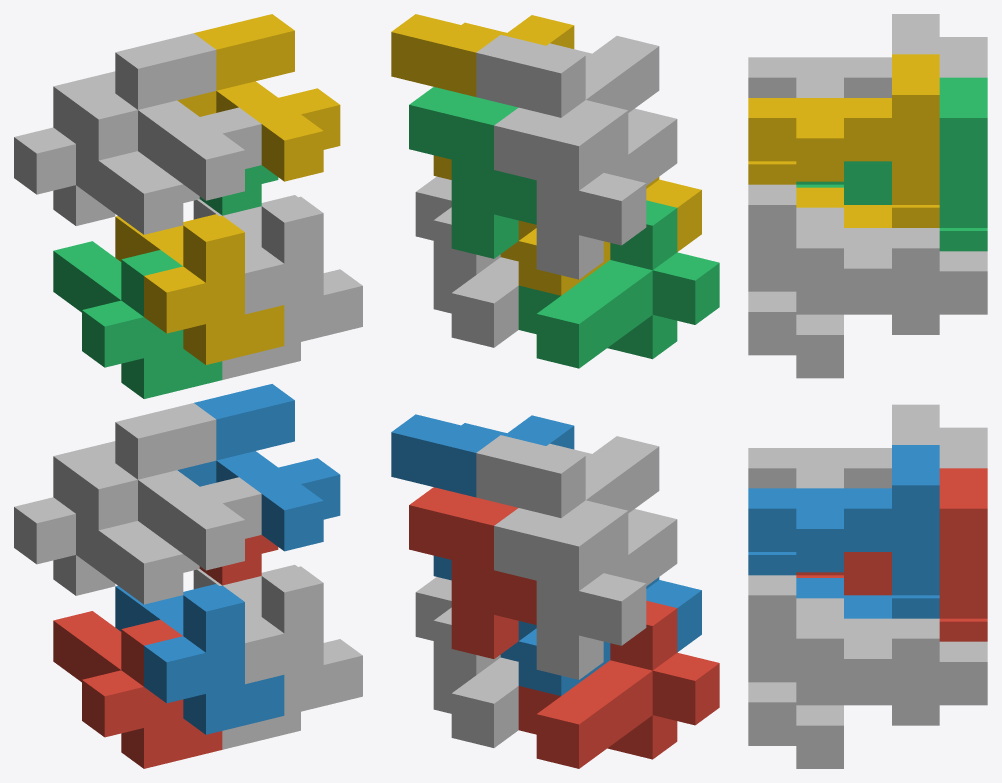
Rendered from tiling.obj.
3 renders of one model, left to right at view 1: azimuth 30°, elevation 25°; view 2: azimuth 150°, elevation 25°; view 3: azimuth 270°, elevation 25°, orthographic. The views are drawn at different scales.
Visible parts, largest first — view 1: copy_2_domain_2, copy_2_domain_4, copy_1_domain_2, copy_1_domain_4, copy_2_domain_1, copy_2_domain_3, copy_1_domain_3, copy_1_domain_1, copy_2_domain_6, copy_2_domain_8, copy_1_domain_8, copy_1_domain_6 (+4 smaller); view 2: copy_2_domain_1, copy_2_domain_3, copy_1_domain_1, copy_1_domain_3, copy_2_domain_4, copy_2_domain_2, copy_2_domain_7, copy_2_domain_5, copy_2_domain_6, copy_2_domain_8, copy_1_domain_5, copy_1_domain_7 (+4 smaller); view 3: copy_1_domain_6, copy_1_domain_8, copy_2_domain_6, copy_2_domain_8, copy_1_domain_5, copy_1_domain_7, copy_2_domain_5, copy_2_domain_7, copy_2_domain_2, copy_2_domain_4, copy_1_domain_2, copy_1_domain_4 (+4 smaller).
Boxes of the visible parts, left/top/right/bottom form: copy_2_domain_2: left=76, top=403, right=261, bottom=570; copy_2_domain_4: left=76, top=33, right=261, bottom=200; copy_1_domain_2: left=115, top=584, right=284, bottom=734; copy_1_domain_4: left=115, top=214, right=284, bottom=364; copy_2_domain_1: left=14, top=441, right=199, bottom=604; copy_2_domain_3: left=14, top=71, right=199, bottom=234; copy_1_domain_3: left=53, top=241, right=222, bottom=398; copy_1_domain_1: left=53, top=611, right=222, bottom=768; copy_2_domain_6: left=177, top=384, right=340, bottom=551; copy_2_domain_8: left=177, top=14, right=340, bottom=181; copy_1_domain_8: left=193, top=195, right=362, bottom=345; copy_1_domain_6: left=193, top=564, right=362, bottom=715; copy_2_domain_1: left=494, top=508, right=677, bottom=679; copy_2_domain_3: left=494, top=107, right=677, bottom=279; copy_1_domain_1: left=518, top=600, right=719, bottom=768; copy_1_domain_3: left=518, top=200, right=719, bottom=368; copy_2_domain_4: left=476, top=35, right=659, bottom=172; copy_2_domain_2: left=476, top=435, right=659, bottom=572; copy_2_domain_7: left=409, top=87, right=536, bottom=258; copy_2_domain_5: left=409, top=487, right=536, bottom=658; copy_2_domain_6: left=391, top=414, right=574, bottom=580; copy_2_domain_8: left=391, top=14, right=574, bottom=179; copy_1_domain_5: left=433, top=657, right=518, bottom=747; copy_1_domain_7: left=433, top=257, right=518, bottom=347; copy_1_domain_6: left=748, top=575, right=939, bottom=745; copy_1_domain_8: left=748, top=184, right=939, bottom=355; copy_2_domain_6: left=748, top=445, right=939, bottom=595; copy_2_domain_8: left=748, top=54, right=939, bottom=204; copy_1_domain_5: left=796, top=598, right=987, bottom=768; copy_1_domain_7: left=796, top=207, right=987, bottom=378; copy_2_domain_5: left=796, top=468, right=987, bottom=618; copy_2_domain_7: left=796, top=77, right=987, bottom=227; copy_2_domain_2: left=748, top=404, right=939, bottom=488; copy_2_domain_4: left=748, top=14, right=939, bottom=97; copy_1_domain_2: left=748, top=552, right=939, bottom=618; copy_1_domain_4: left=748, top=161, right=939, bottom=227.
Size of the model in its own units: 6 by 16 by 5.
